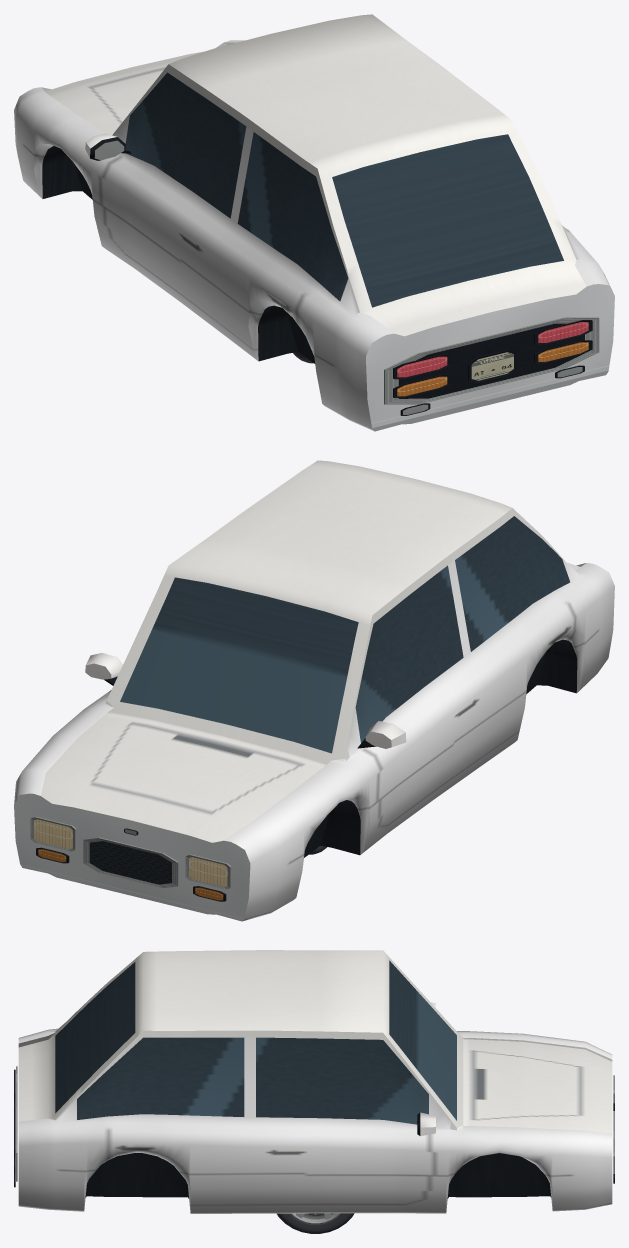
File: brasa_16.glb
3 views of the same model, one above another, from view 1: azimuth 30°, elevation 25°; view 2: azimuth 150°, elevation 25°; view 3: azimuth 270°, elevation 25° (orthographic). The views are drawn at different scales.
Visible parts, largest first — view 1: Carroceria_brasa_16; view 2: Carroceria_brasa_16; view 3: Carroceria_brasa_16, Roda_brasa_16.
Boxes of the visible parts, box(x1,y1,x2,y2) form: Carroceria_brasa_16: box(14, 14, 614, 431); Carroceria_brasa_16: box(14, 460, 614, 921); Carroceria_brasa_16: box(14, 950, 614, 1213); Roda_brasa_16: box(277, 1213, 354, 1233).
Size of the model in its own units: 1.88 by 1.67 by 3.73.
6 materials, 6 textured.
